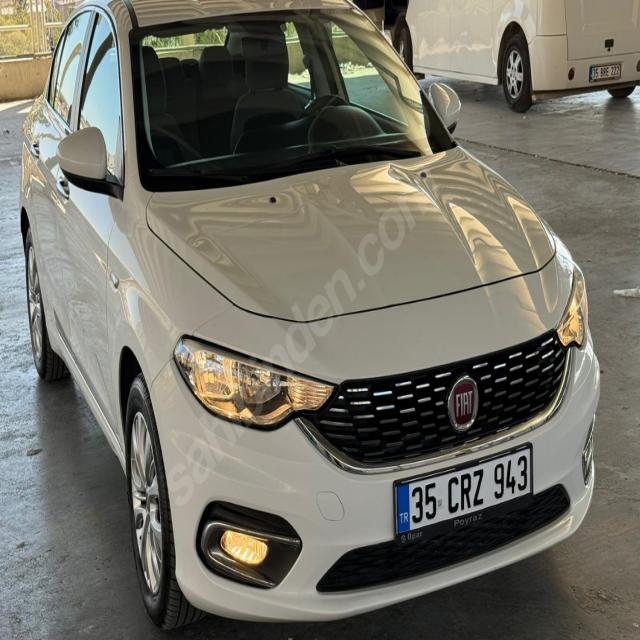fiat: (434, 373, 494, 435)
